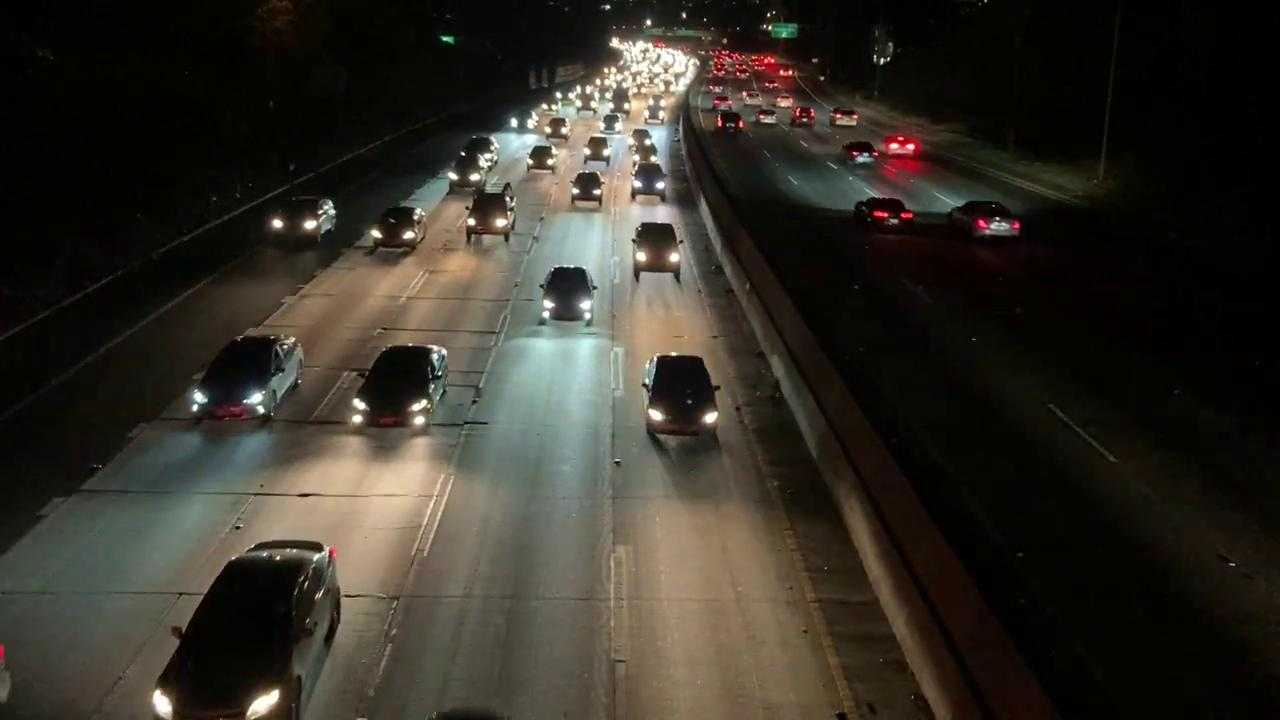car: (145, 529, 362, 718), (350, 337, 465, 445), (181, 332, 314, 419), (636, 345, 735, 450), (534, 266, 605, 333), (266, 191, 339, 246), (630, 218, 687, 278), (943, 202, 1020, 242), (368, 204, 434, 247), (855, 199, 917, 233), (565, 170, 608, 212), (445, 154, 490, 190), (626, 165, 670, 199), (520, 145, 560, 174), (580, 133, 612, 167), (544, 114, 577, 142), (841, 140, 876, 164)
truck: (461, 178, 523, 239)
